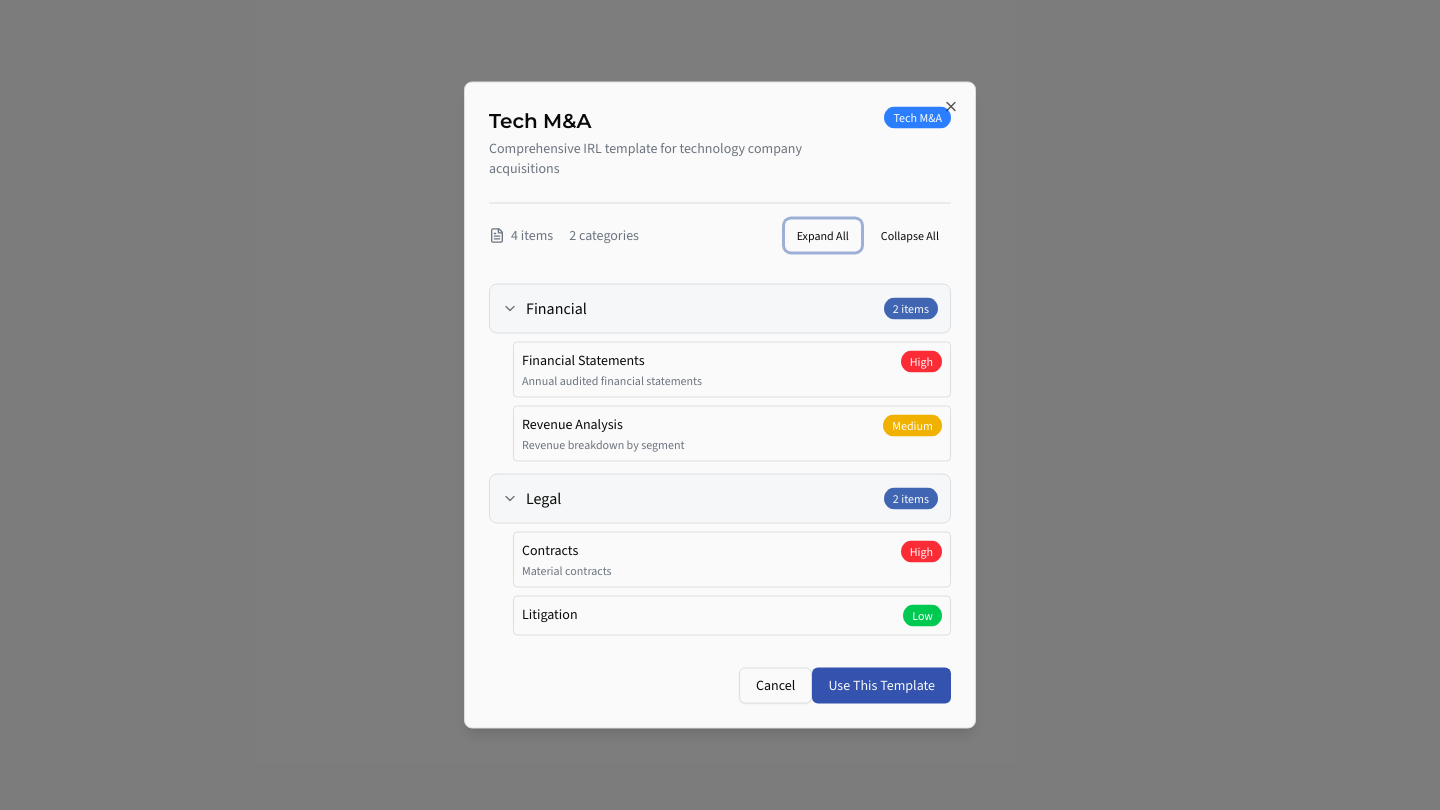
Test case: IRLTemplateModal › expand/collapse all › should collapse all categories when Collapse All is clicked
Click the button with test id "collapse-all".
click(910, 236)  # box [869, 220, 951, 252]
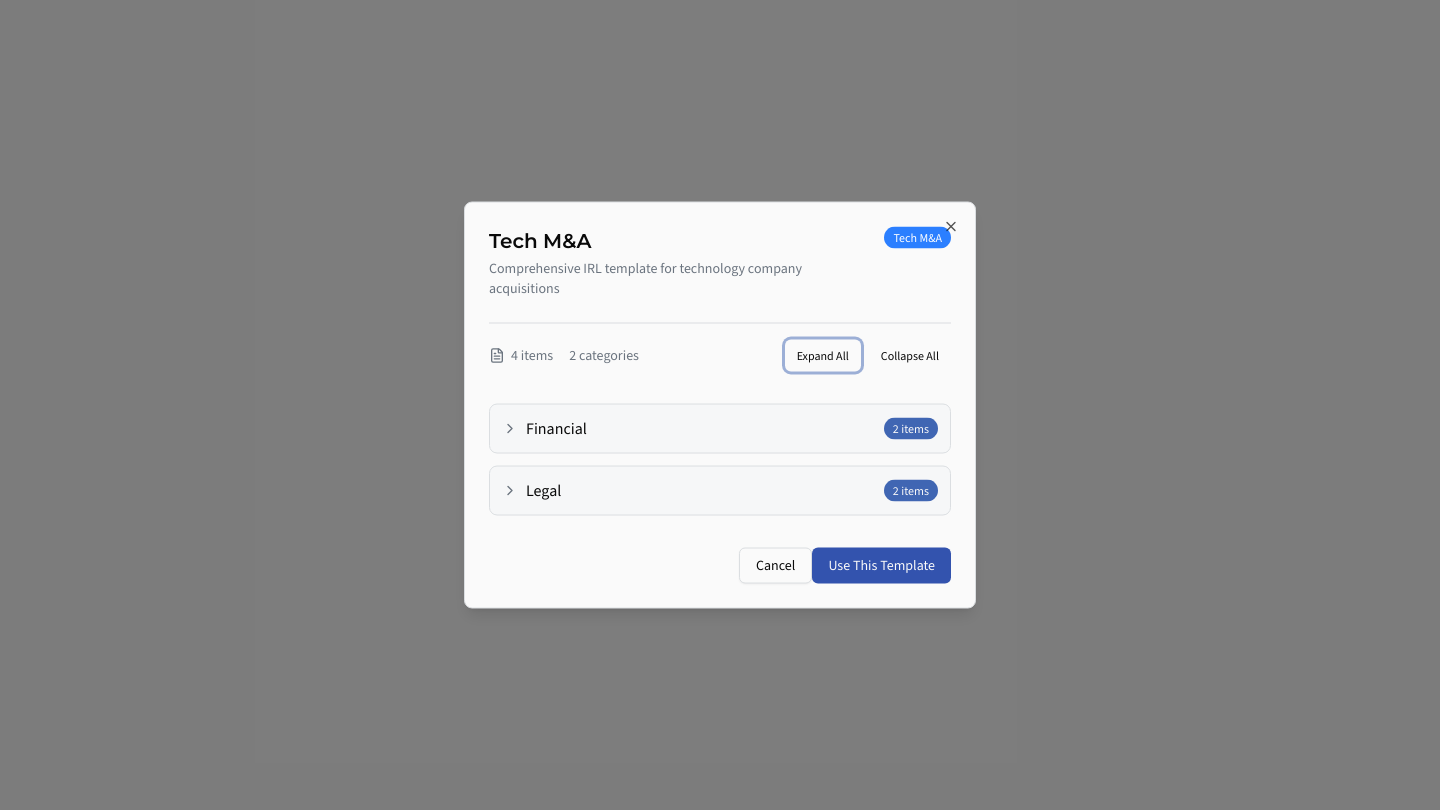
Expected: no elements with test id "template-item" are shown
